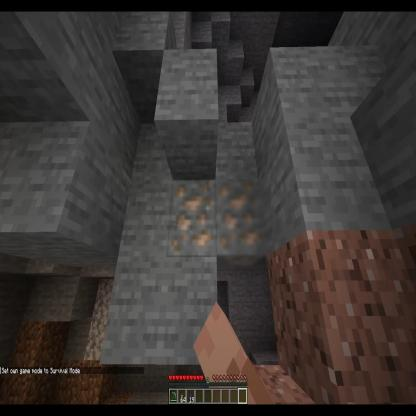iron ore: (217, 180, 271, 270), (166, 178, 219, 257)
